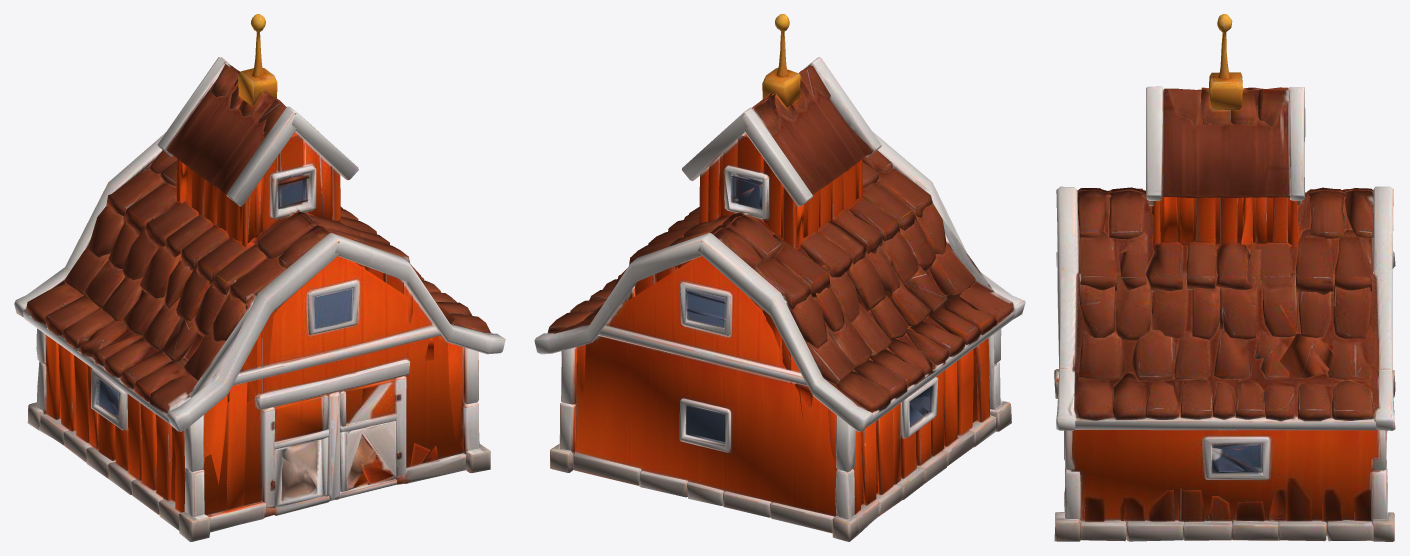
File: barn.glb
3 renders of one model, left to right at view 1: azimuth 30°, elevation 25°; view 2: azimuth 150°, elevation 25°; view 3: azimuth 270°, elevation 25°, orthographic. The views are drawn at different scales.
Size of the model in its own units: 0.8047 by 1 by 0.6875.
1 material, 1 textured.
